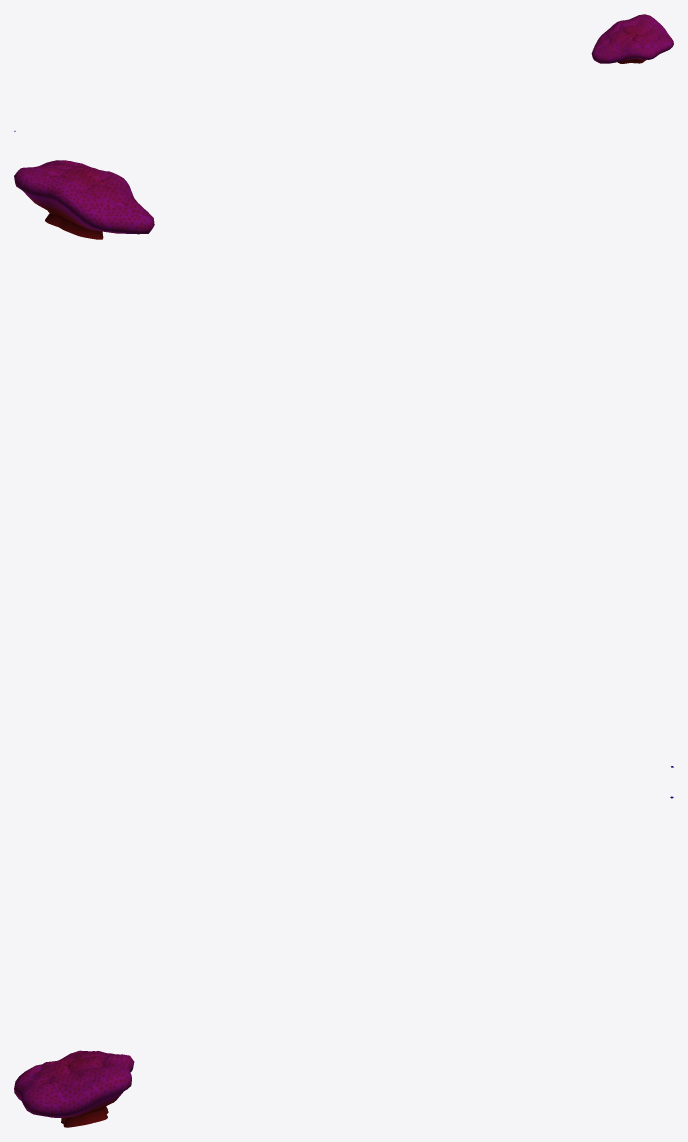
Rendered from leather_pink.glb.
3 views of the same model, one above another, from view 1: azimuth 30°, elevation 25°; view 2: azimuth 150°, elevation 25°; view 3: azimuth 270°, elevation 25° (orthographic). The views are drawn at different scales.
Visible parts, largest first — view 1: Body; view 2: Body; view 3: Body.
Boxes of the visible parts, x1=… form: Body: x1=591, y1=14, x2=673, y2=63; Body: x1=14, y1=160, x2=154, y2=239; Body: x1=14, y1=1050, x2=134, y2=1127.
Bounding box in the file's own units: 61.84 × 11.69 × 35.67.
3 materials, 3 textured.
